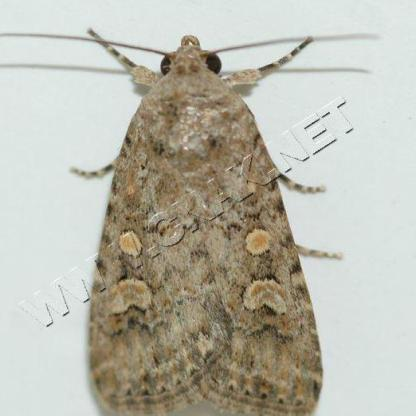armyworm: (12, 22, 358, 416)
